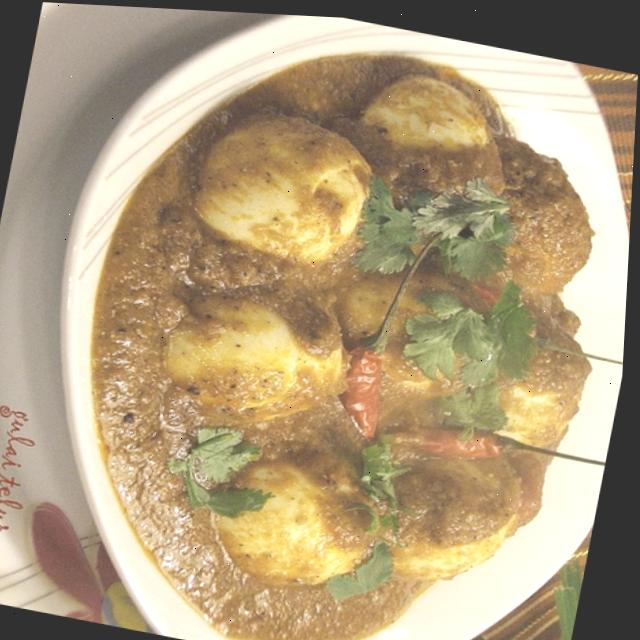熟制海鲜: (7, 1, 640, 640)
